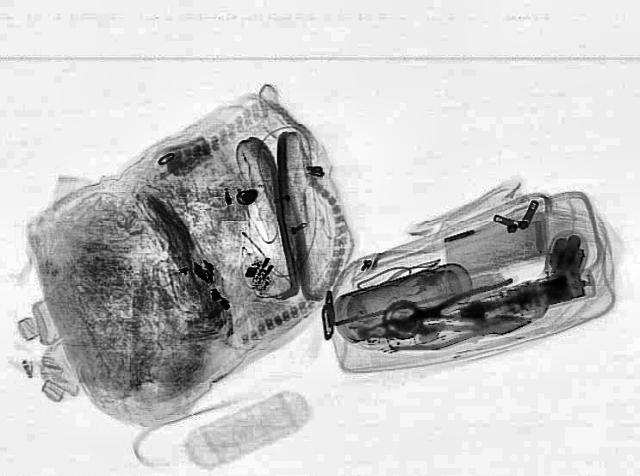Pliers: (372, 277, 530, 347), (384, 305, 536, 357)
